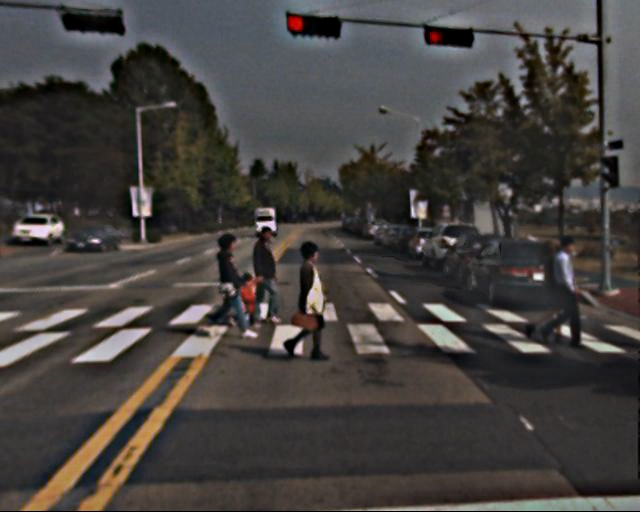person: (285, 237, 336, 361), (544, 234, 592, 352), (529, 236, 574, 346), (207, 233, 251, 340), (246, 226, 287, 327)
